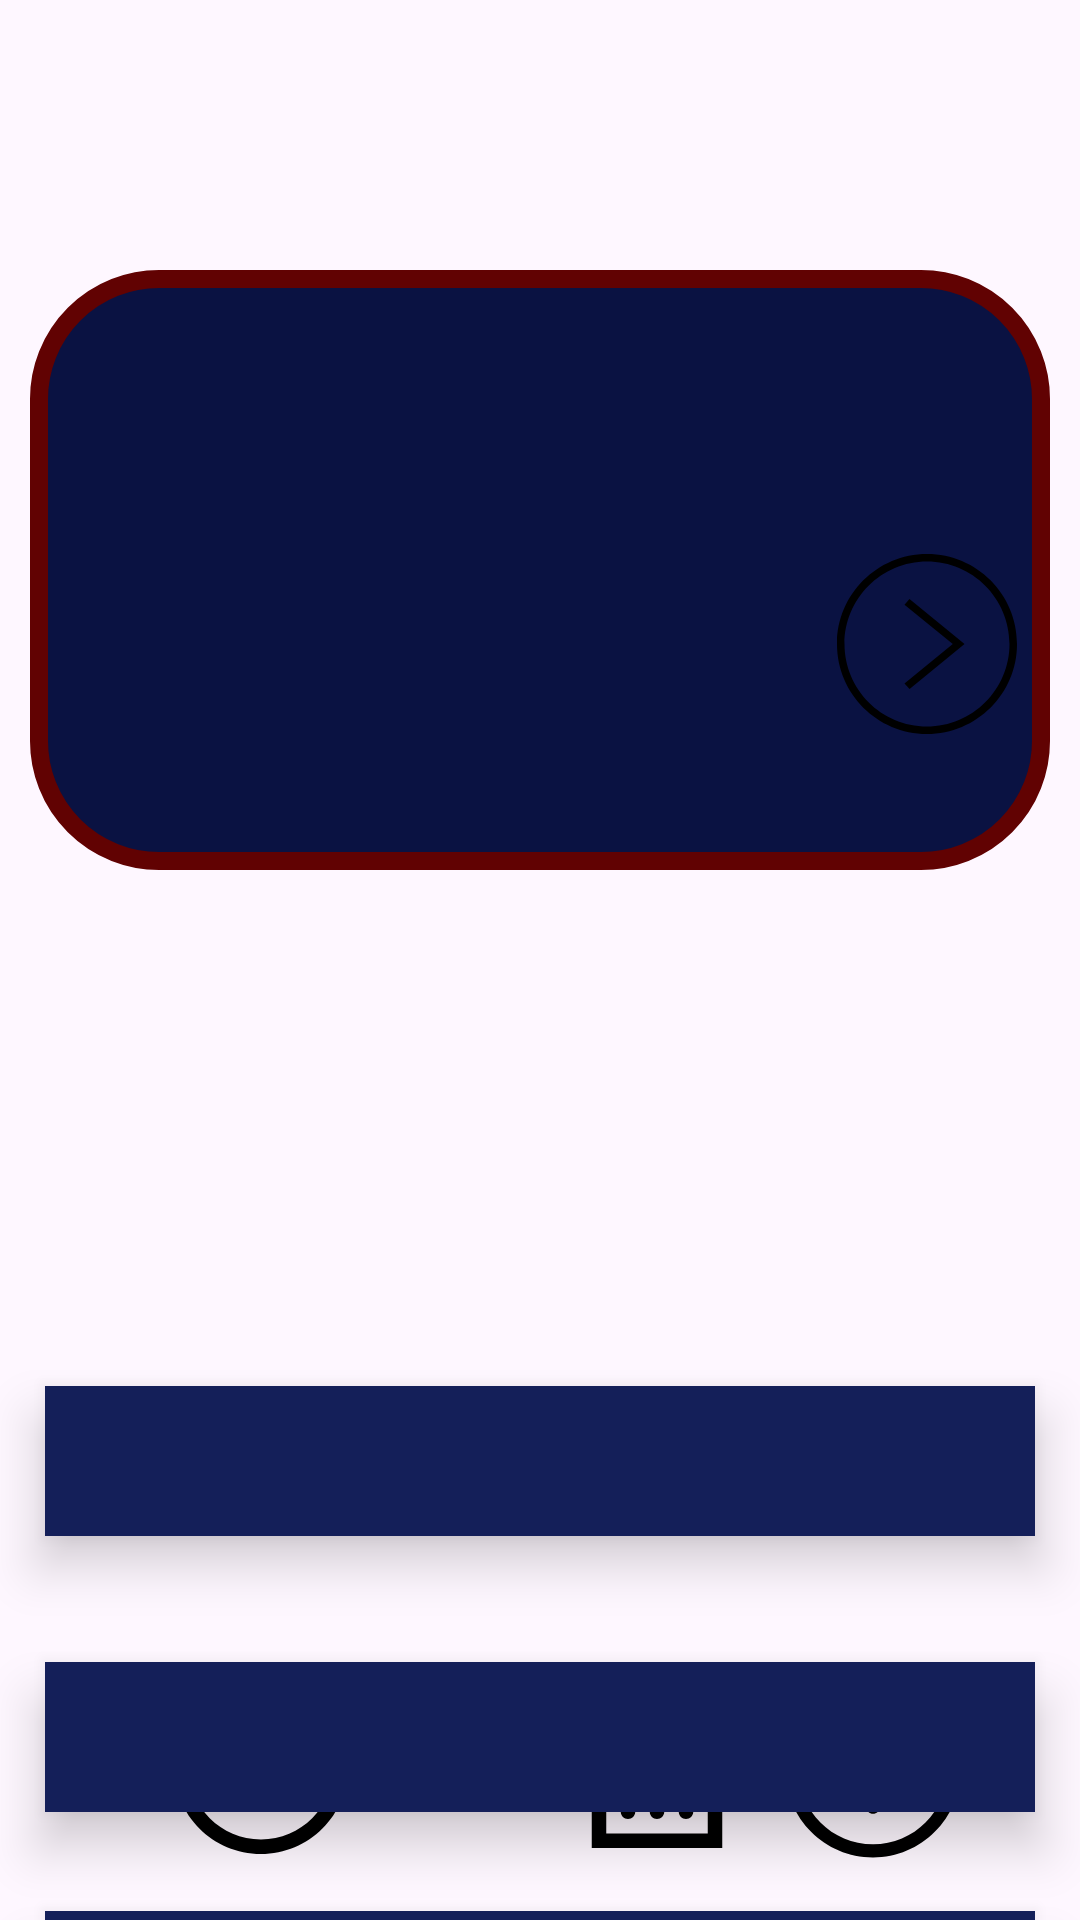

Point at icon controls on the screen. Image size 1080 × 1920, points as (x,y).
iconmonstr angel right circle: (927,644)
